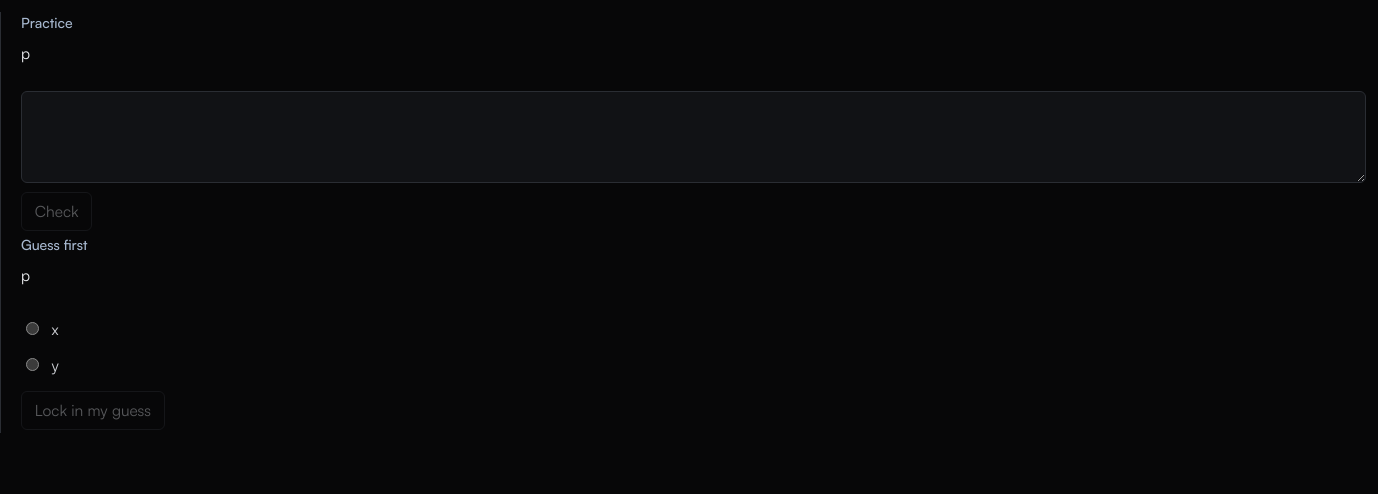
Test: drills › short answers go to the tutor; pretests explain that misses are expected
The image size is (1378, 494).
Type "my answer" into the text box named "Your answer" at (694, 137), box x1=21 y1=91 x2=1366 y2=183
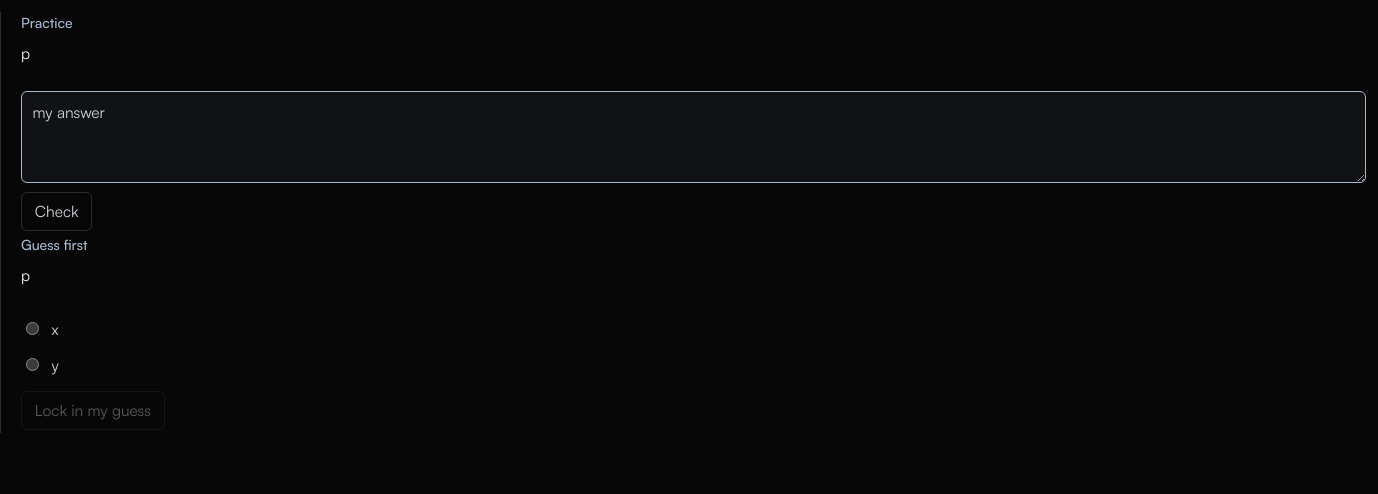
Click the button "Check" at (57, 212), box x1=21 y1=192 x2=92 y2=231
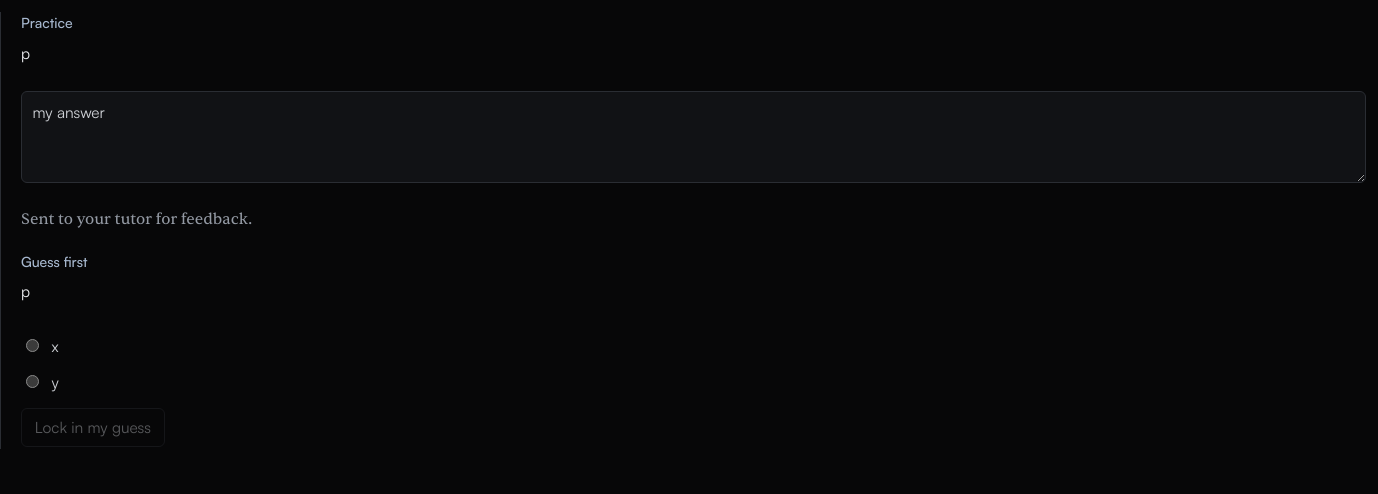
Expected: the text "Sent to your tutor for feedback." is shown, x1=21 y1=210 x2=252 y2=230
Click the radio button labelled "x" at (32, 345), box x1=26 y1=339 x2=39 y2=352
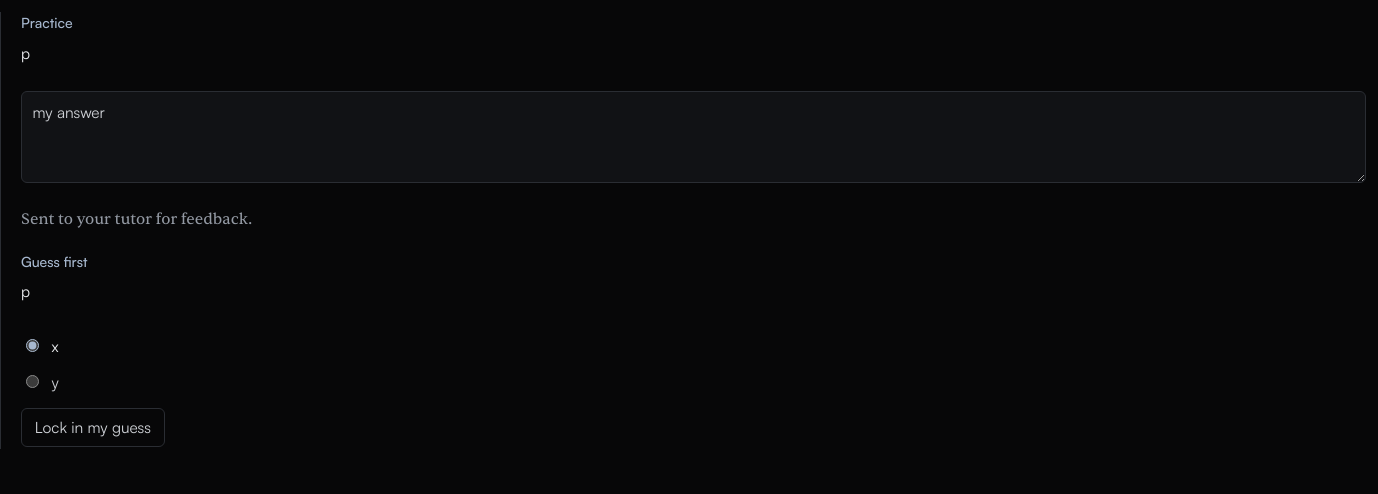
Click the button "Lock in my guess" at (93, 428), box x1=21 y1=408 x2=165 y2=447
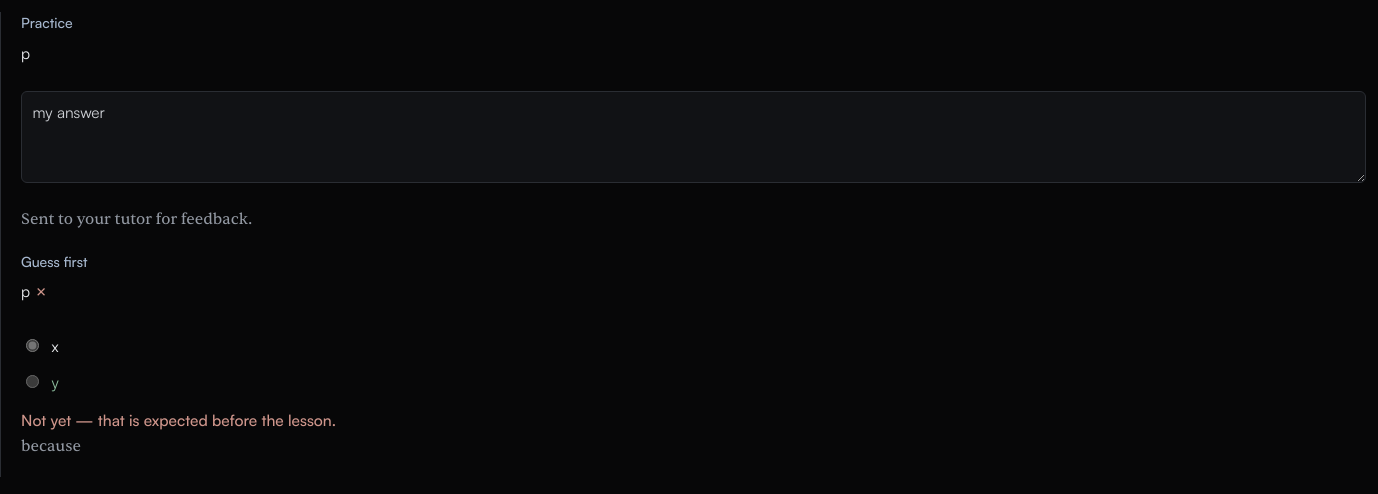
Expected: the text "Guess first" is shown, x1=21 y1=252 x2=88 y2=270
Expected: the message shows "Not yet — that is expected before the lesson.", x1=21 y1=410 x2=336 y2=430
